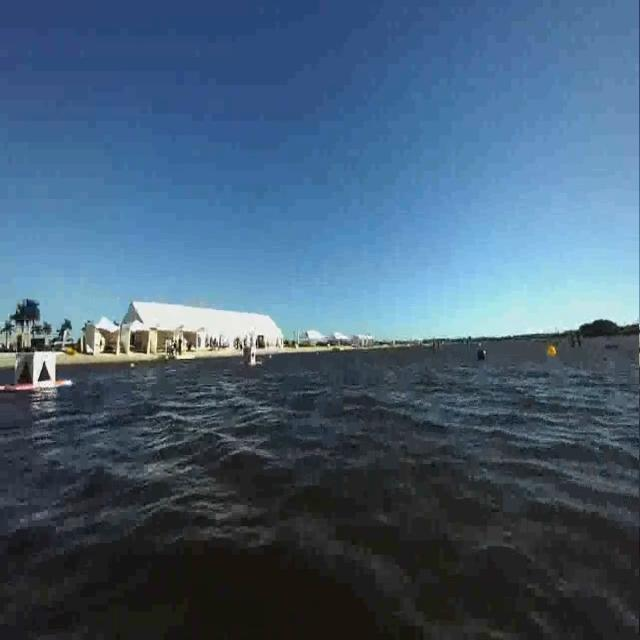black-buoy: (478, 347, 488, 362)
yellow-buoy: (549, 344, 559, 359)
